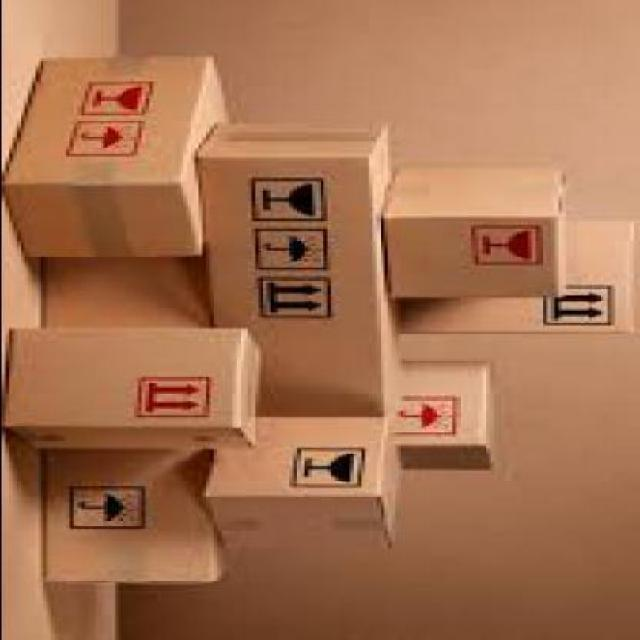box: (202, 120, 402, 420), (5, 54, 232, 255), (5, 326, 269, 446), (391, 217, 637, 334), (208, 415, 402, 548), (46, 449, 231, 583), (383, 163, 565, 299), (34, 251, 212, 328), (389, 357, 500, 469)
